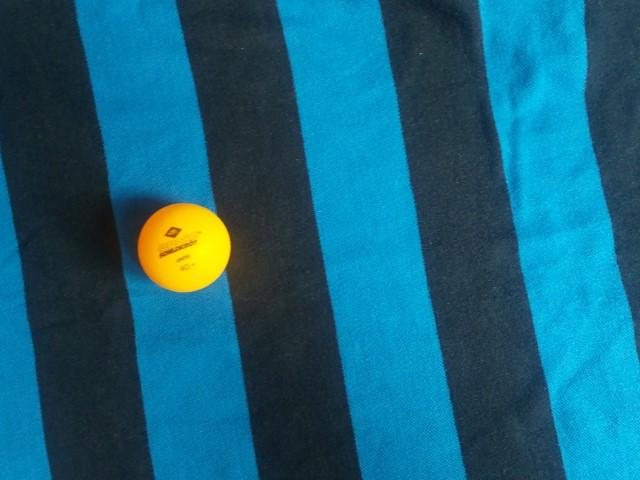oball: (132, 198, 236, 297)
